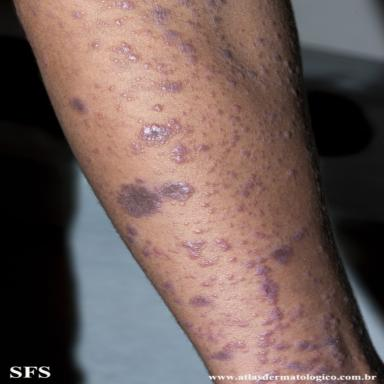lichen: (118, 176, 195, 217), (132, 119, 194, 154), (258, 340, 318, 372), (163, 30, 198, 65), (321, 313, 347, 357), (221, 49, 256, 79), (254, 266, 278, 304), (258, 323, 290, 347), (207, 341, 245, 361), (144, 6, 172, 27), (240, 174, 265, 197), (177, 240, 206, 259), (113, 42, 138, 61), (270, 245, 294, 264), (154, 77, 182, 93), (143, 63, 173, 75), (262, 307, 281, 325), (142, 240, 163, 256), (171, 144, 188, 163), (189, 295, 213, 307), (70, 97, 88, 113), (205, 66, 223, 81), (111, 0, 134, 10), (296, 341, 321, 350), (227, 317, 249, 327), (291, 228, 306, 242), (126, 226, 137, 245), (229, 128, 240, 146), (215, 239, 231, 251), (205, 0, 226, 9), (198, 258, 218, 267), (162, 281, 175, 294), (315, 364, 333, 373), (293, 305, 304, 319), (201, 277, 215, 287), (255, 232, 278, 237), (224, 77, 236, 86), (177, 0, 192, 7), (234, 203, 247, 211), (187, 21, 201, 28), (193, 228, 209, 234), (245, 260, 255, 269), (283, 131, 293, 140), (73, 11, 84, 19), (229, 115, 241, 122), (185, 322, 197, 329), (153, 104, 163, 112), (287, 169, 297, 177), (198, 145, 210, 151), (232, 104, 241, 112), (257, 37, 265, 46), (213, 16, 222, 23), (213, 108, 222, 115), (272, 55, 281, 62), (258, 257, 268, 263), (241, 151, 250, 157), (225, 274, 234, 280), (200, 202, 210, 207), (108, 85, 116, 91), (208, 91, 215, 97), (92, 43, 100, 48), (200, 261, 207, 266), (137, 119, 143, 123), (213, 295, 218, 297)
